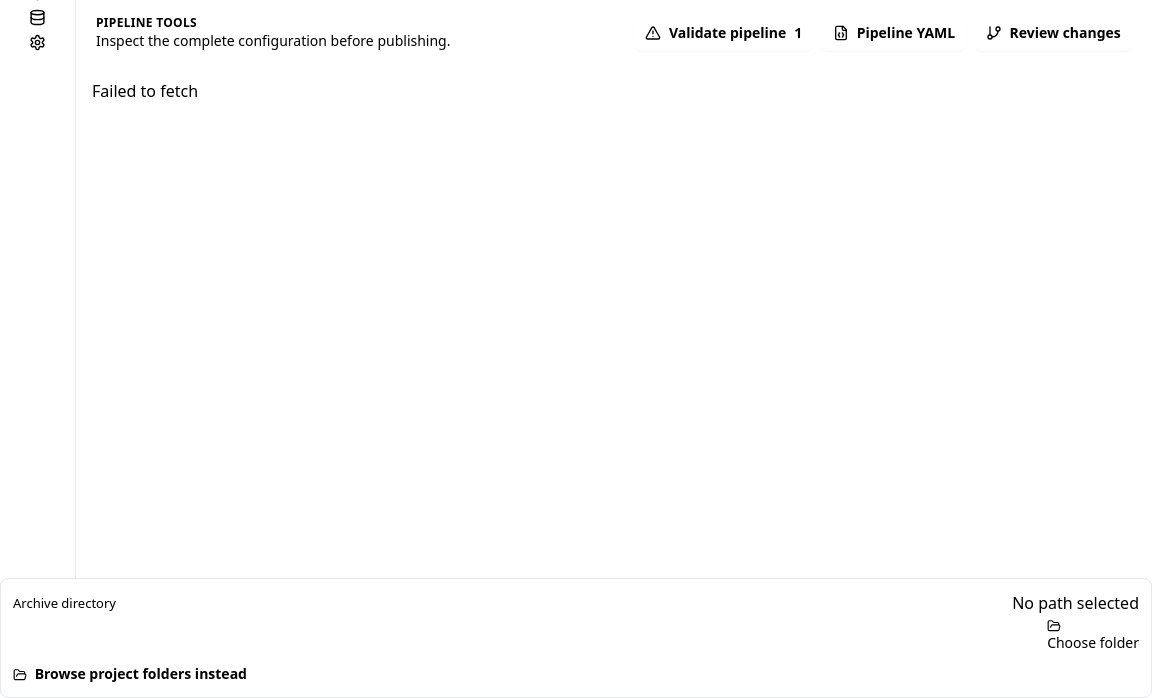
Scenario: Unit — Req 9: PathBrowser initial state and explicit toggle › clicking the toggle button renders the browser content (open)
The width and height of the screenshot is (1152, 698).
(page scrolled)
Click the button "Browse project folders instead": click(130, 674) left=13, top=664, right=247, bottom=684
(page scrolled)
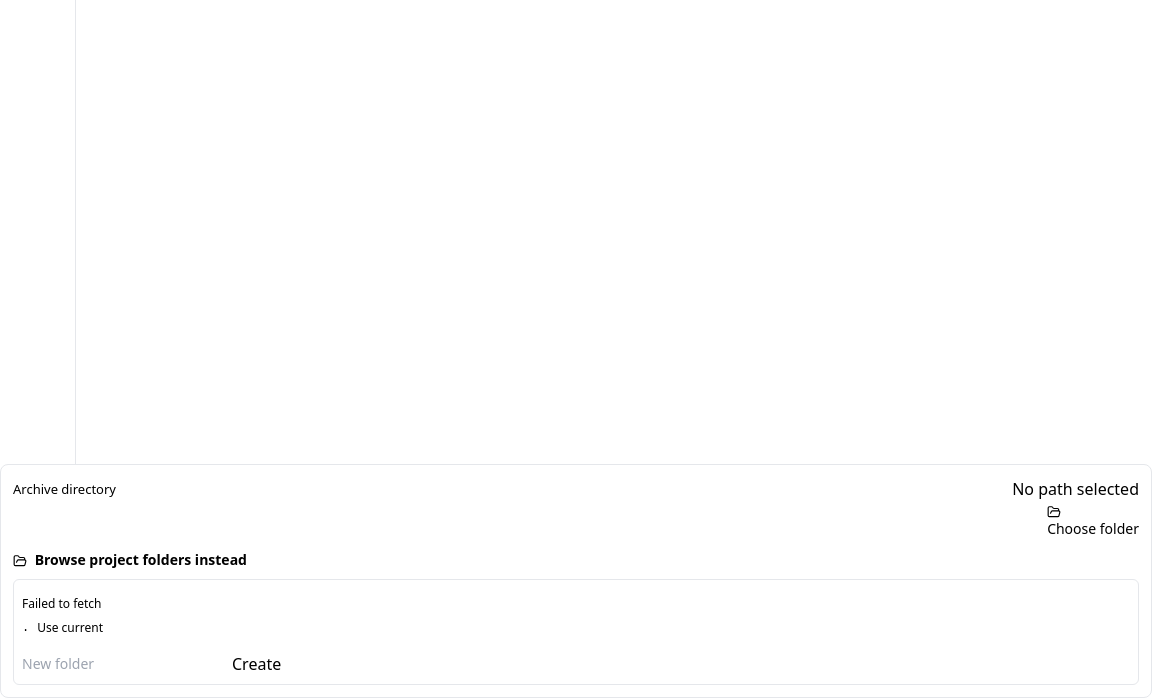
Now the element showing "Failed to fetch . Use current Create" is shown, box left=13, top=579, right=1139, bottom=685
